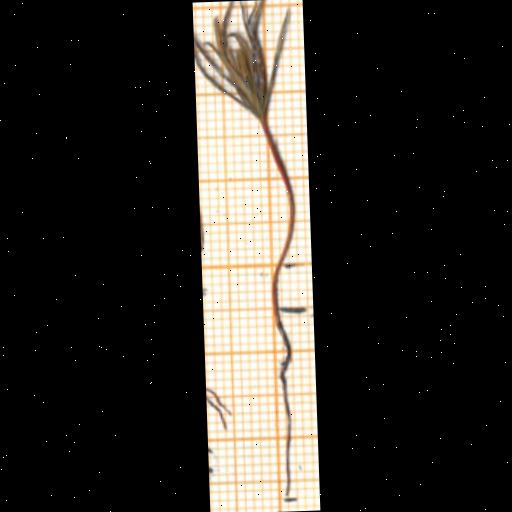flowerPinus: (193, 0, 288, 118)
rootPinus: (275, 310, 292, 498)
stemPinus: (260, 117, 296, 268)
